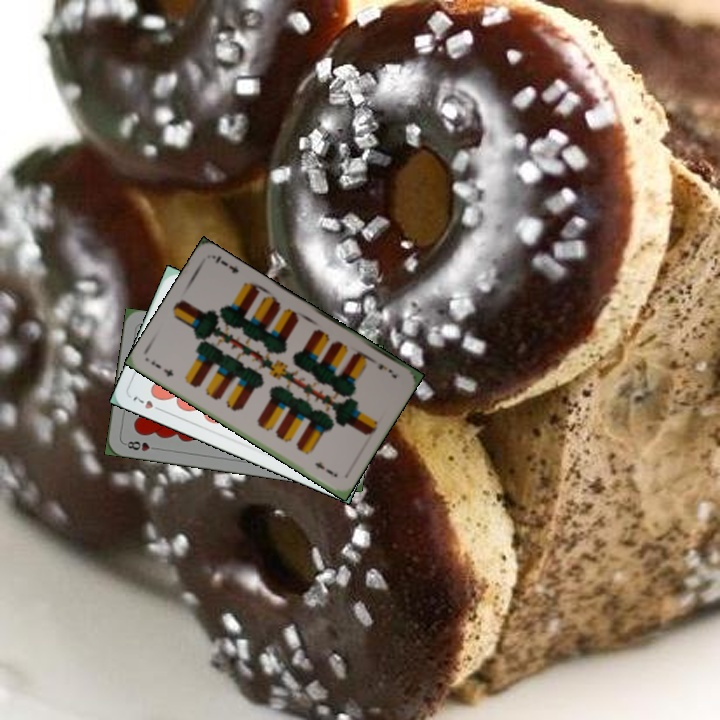E7: (366, 354, 399, 381), (147, 357, 176, 379)
H7: (129, 392, 166, 414)
H8: (121, 437, 161, 454)
